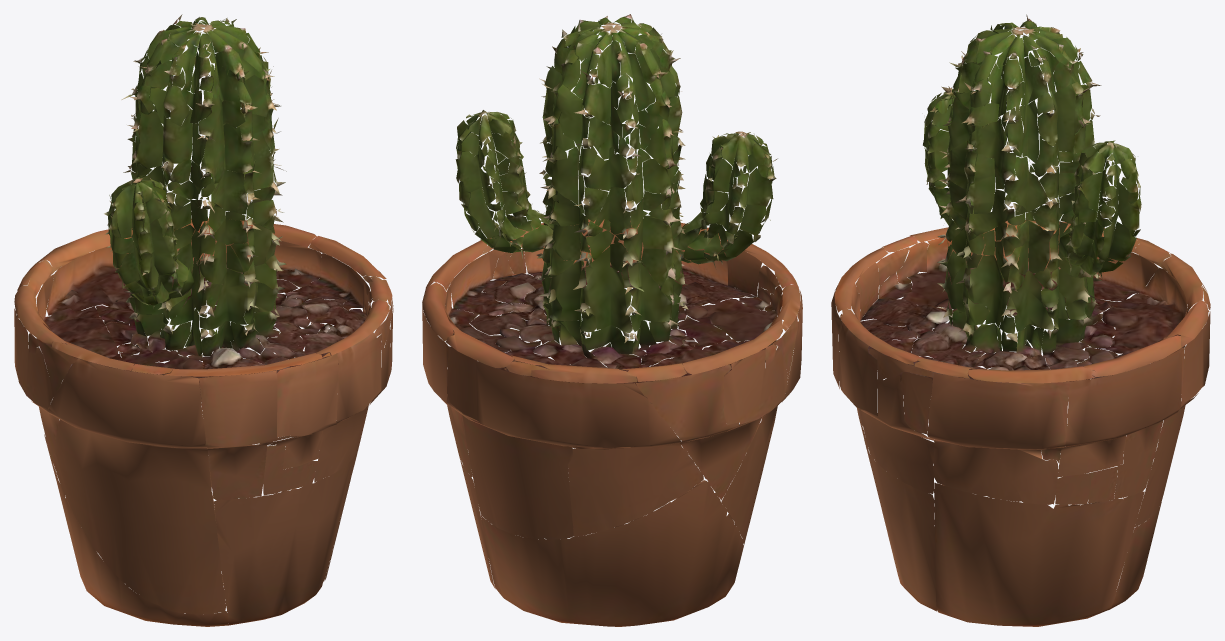
Rendered from tripo-cactus.glb.
3 renders of one model, left to right at view 1: azimuth 30°, elevation 25°; view 2: azimuth 150°, elevation 25°; view 3: azimuth 270°, elevation 25°, orthographic.
Visible parts, largest first — view 1: tripo_node_e65f5e7a-4580-4911-8b56-af6205d62b1f; view 2: tripo_node_e65f5e7a-4580-4911-8b56-af6205d62b1f; view 3: tripo_node_e65f5e7a-4580-4911-8b56-af6205d62b1f.
Boxes of the visible parts, x1,y1,x2,y2 form: tripo_node_e65f5e7a-4580-4911-8b56-af6205d62b1f: [14, 14, 393, 626]; tripo_node_e65f5e7a-4580-4911-8b56-af6205d62b1f: [422, 14, 802, 626]; tripo_node_e65f5e7a-4580-4911-8b56-af6205d62b1f: [831, 14, 1210, 626].
Bounding box in the file's own units: 0.6093 × 0.976 × 0.6089.
Materials: 1 (1 with a texture image).
